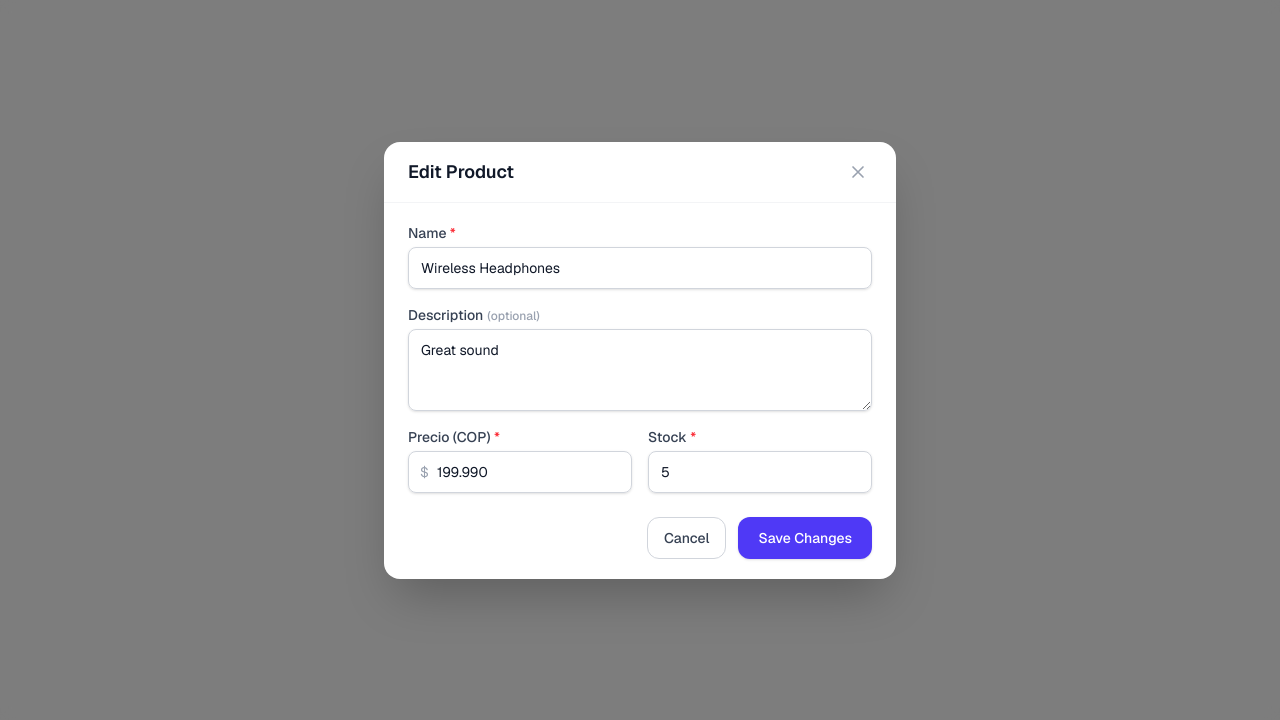
EditProductModal › shows validation error when name is cleared
This screenshot has width=1280, height=720.
Clear the field labelled "Name *": {"x": 640, "y": 268} x1=408 y1=246 x2=872 y2=288
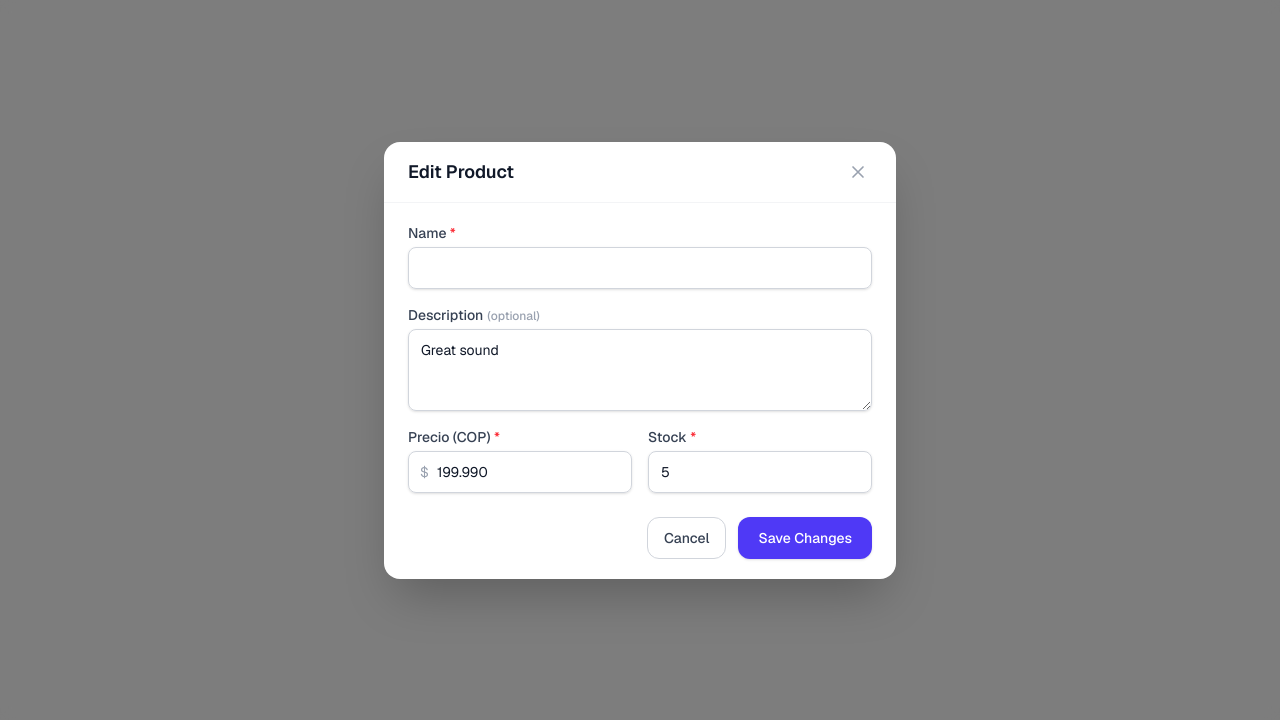
Click the button "Save Changes": {"x": 805, "y": 538} x1=738 y1=516 x2=872 y2=558
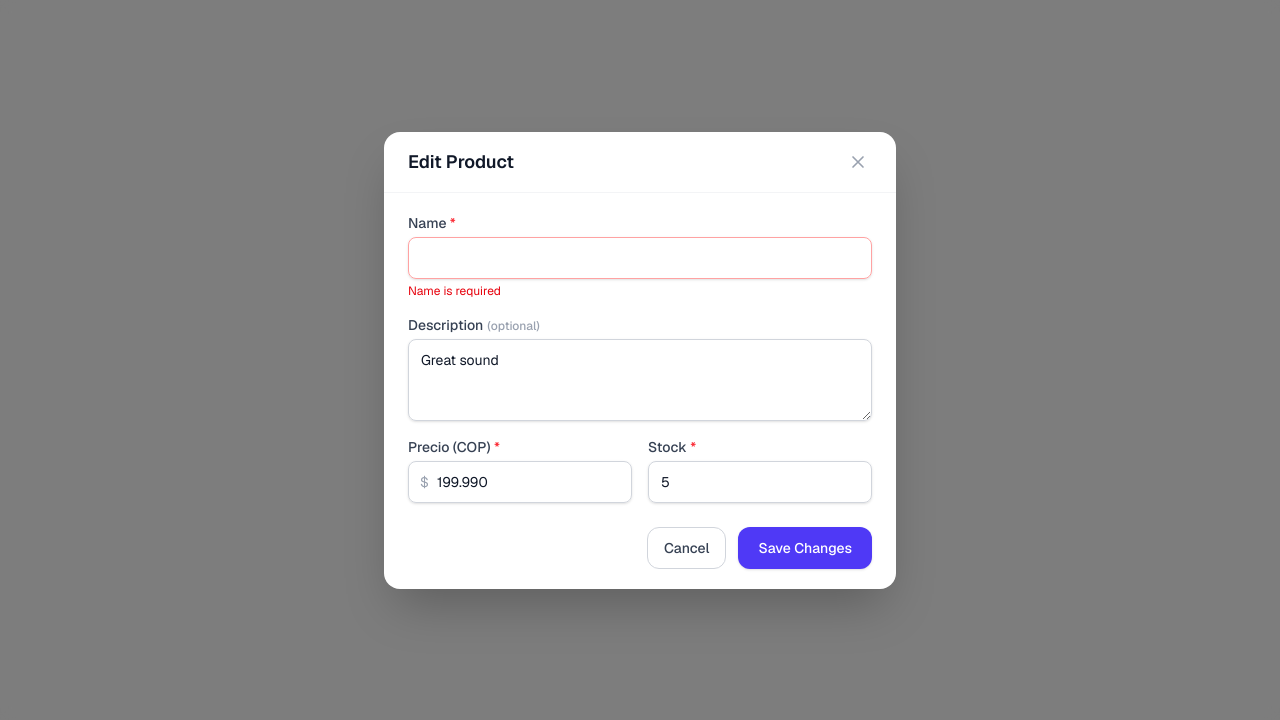
Now the text "Name is required" is shown, box x1=408 y1=282 x2=501 y2=298
